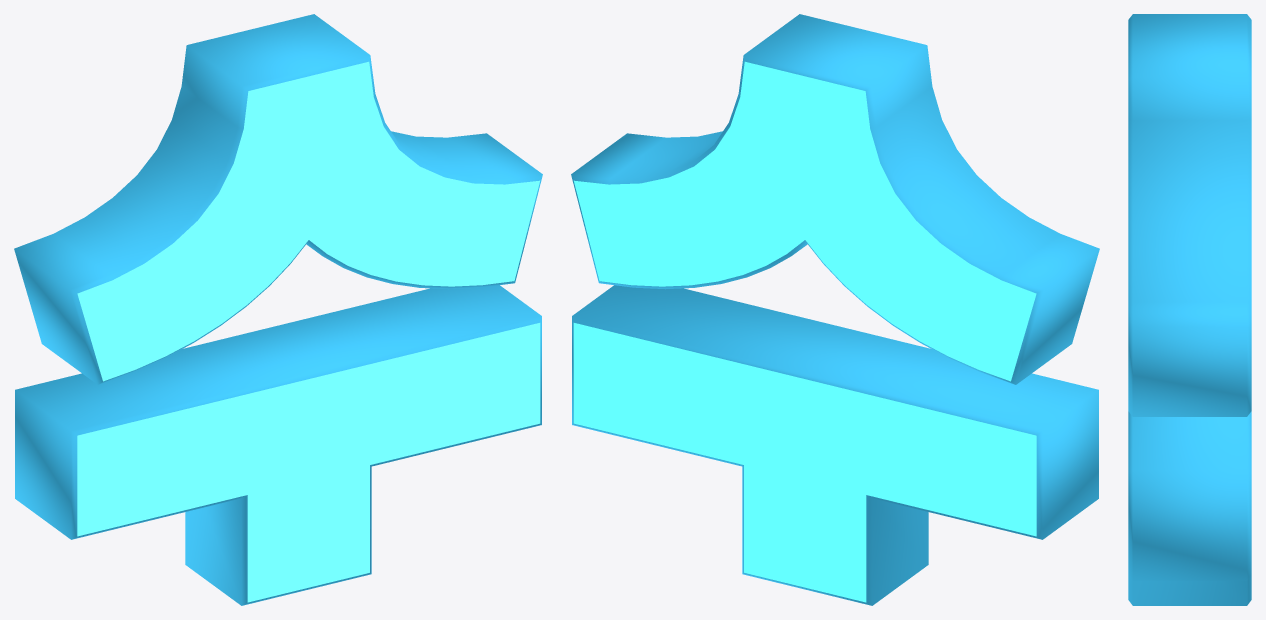
The picture shows the model from 3 angles, left to right: view 1: azimuth 30°, elevation 25°; view 2: azimuth 150°, elevation 25°; view 3: azimuth 270°, elevation 25°; orthographic projection.
Parts seen in each view (by area): view 1: glyph; view 2: glyph; view 3: glyph.
Boxes of the visible parts, box(x1,y1,x2,y2) form: glyph: box(14, 14, 542, 605); glyph: box(571, 14, 1099, 605); glyph: box(1128, 14, 1251, 605).
Bounding box in the file's own units: 0.073 × 0.0766 × 0.0162.
